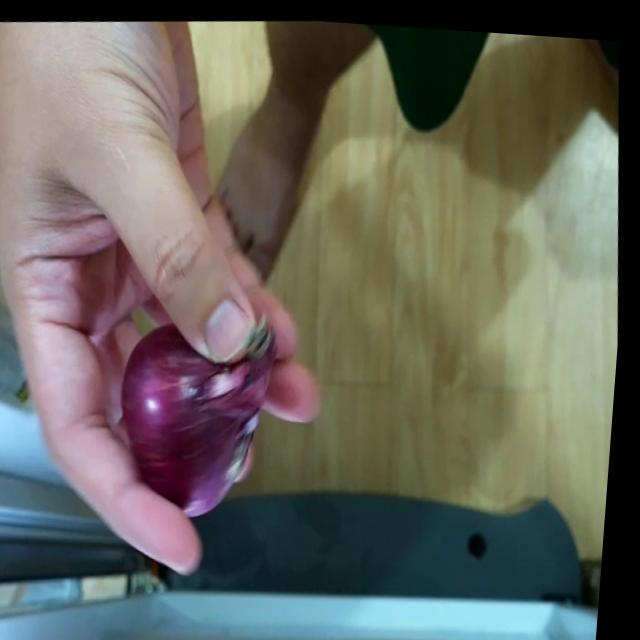onion: (110, 307, 291, 519)
